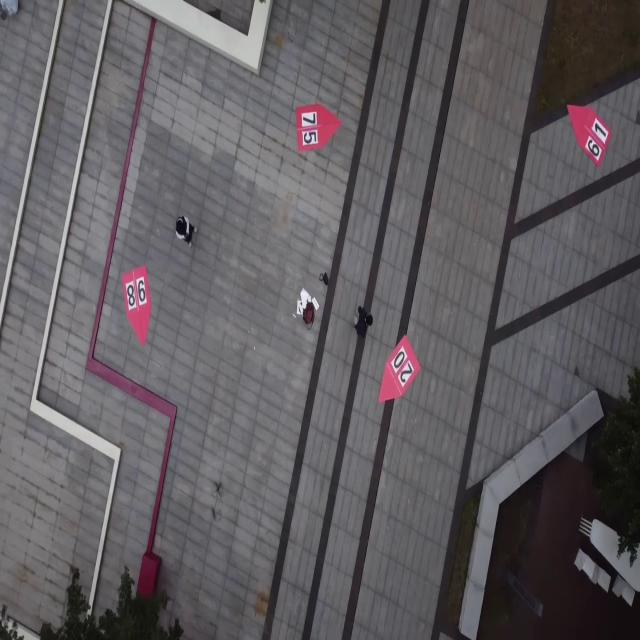-sign-: (378, 336, 421, 403), (567, 102, 611, 166), (122, 264, 151, 348), (296, 104, 342, 154)
